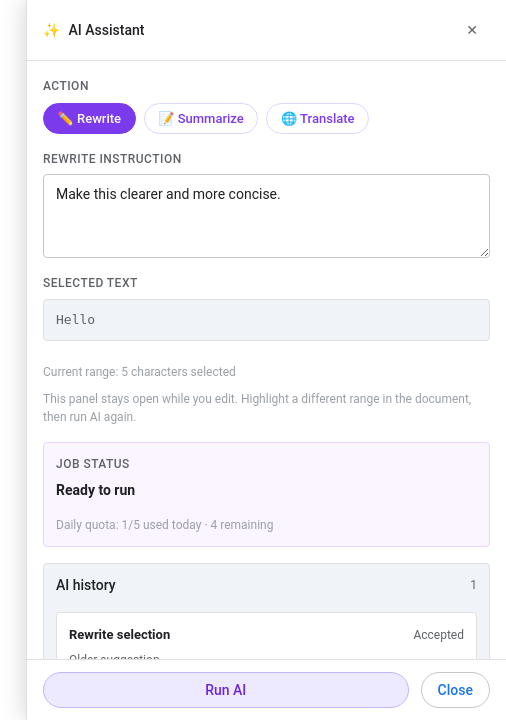
it: AiPanel › shows translation-specific controls
Expected: the text "Daily quota: 1/5 used today · 4 remaining" is shown, [56,518,273,532]
Click the button with test id "ai-action-translate": (318, 119) [266,103,369,134]
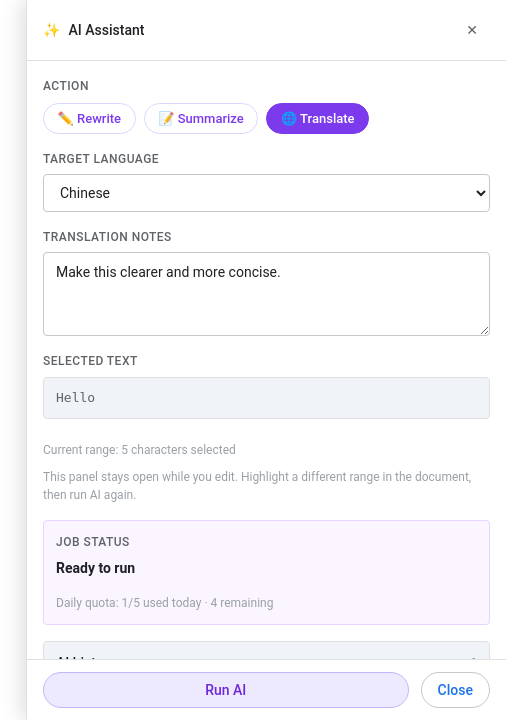
Expected: the text box labelled "Translation notes" is shown, [43,252,490,336]
Result: the dropdown with test id "ai-target-language" is shown at [43,174,490,212]
